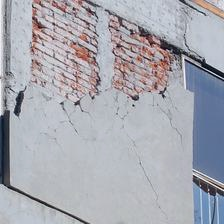crack: (116, 95, 168, 218), (149, 92, 184, 144), (62, 106, 92, 135), (29, 125, 59, 150)
spalling: (8, 1, 199, 114)
